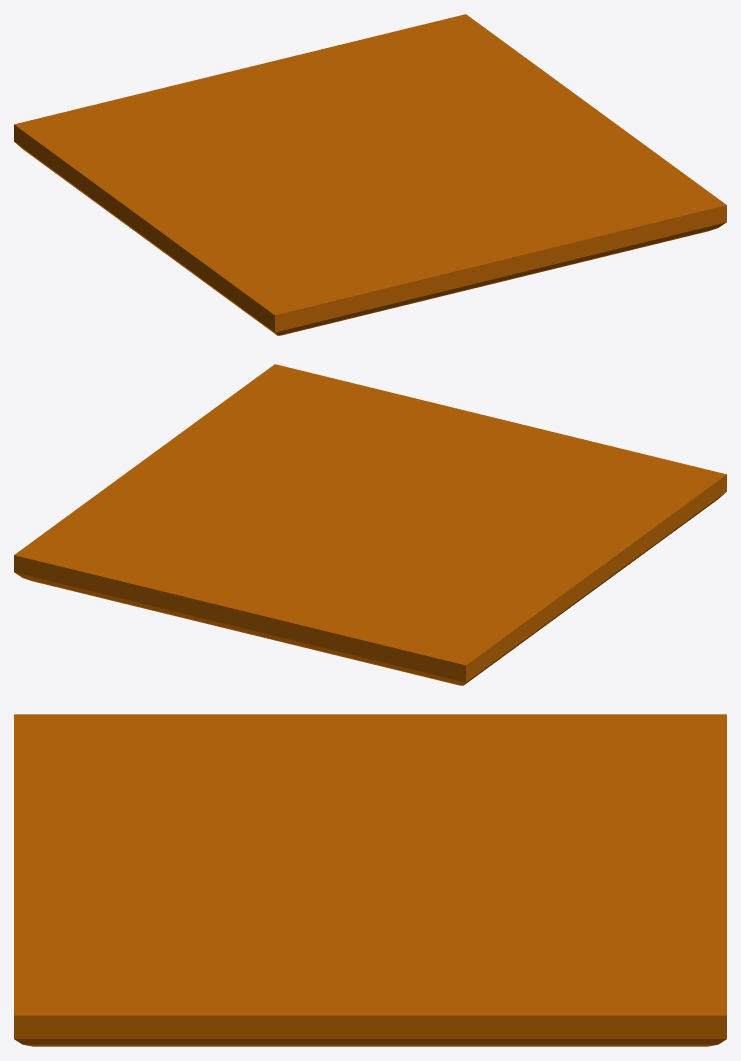
The model's file is Gold_Carved.glb.
3 renders of one model, top to bottom at view 1: azimuth 30°, elevation 25°; view 2: azimuth 150°, elevation 25°; view 3: azimuth 270°, elevation 25°, orthographic. The views are drawn at different scales.
Parts seen in each view (by area): view 1: PF_Golden_2; view 2: PF_Golden_2; view 3: PF_Golden_2.
Boxes of the visible parts, x1,y1,x2,y2 form: PF_Golden_2: (14,14,726,335); PF_Golden_2: (14,364,726,685); PF_Golden_2: (14,714,726,1046).
Bounding box in the file's own units: 1.23 × 0.0736 × 1.23.
3 materials, 1 textured.
